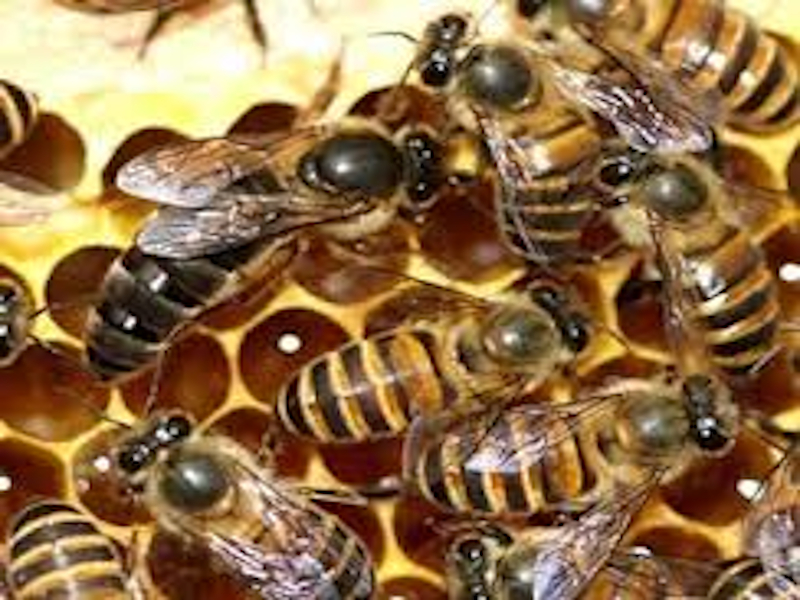abeja: (93, 105, 462, 331), (378, 8, 677, 242), (561, 118, 777, 410), (54, 382, 343, 600), (384, 359, 750, 512), (280, 275, 588, 448)
